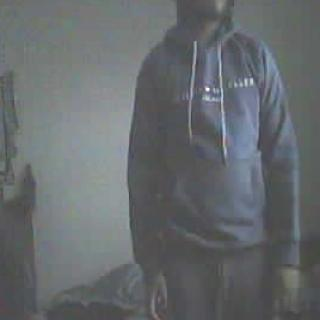Blue Hoodie: (130, 24, 301, 244)
Gray Sweatpants: (164, 254, 274, 320)
